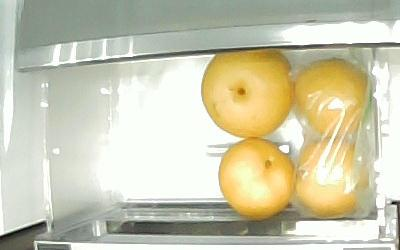pear: (200, 54, 295, 138), (217, 136, 295, 219)
pear_vinyl: (293, 55, 370, 137), (291, 138, 369, 218)
